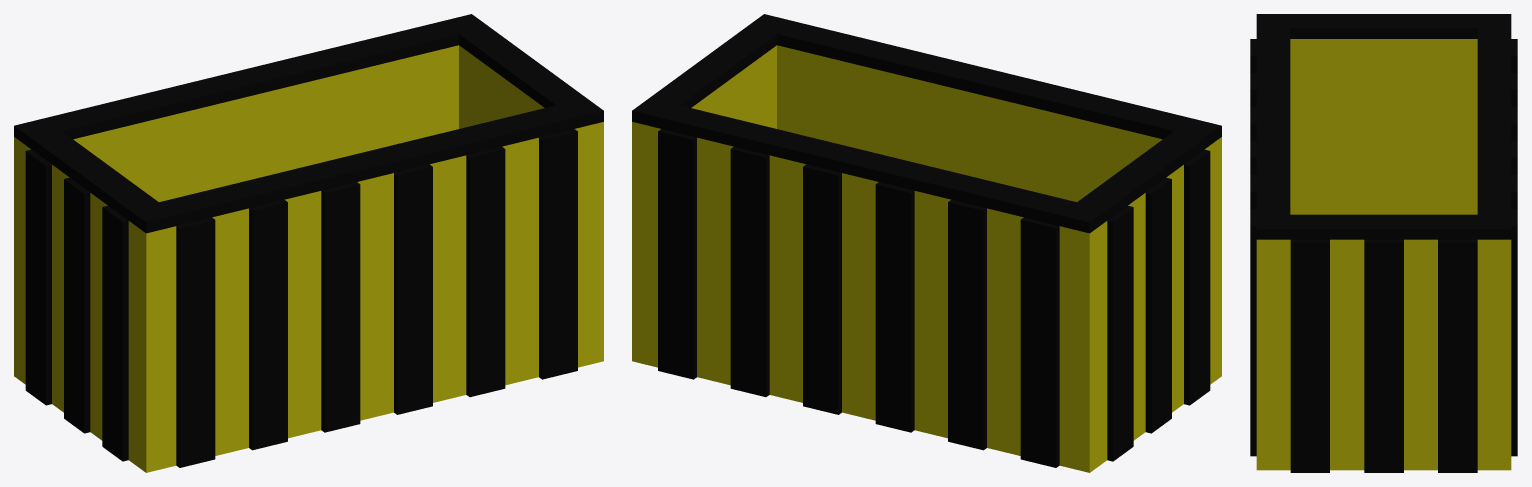
3 views of the same model, side by side, from view 1: azimuth 30°, elevation 25°; view 2: azimuth 150°, elevation 25°; view 3: azimuth 270°, elevation 25° (orthographic). The views are drawn at different scales.
Parts seen in each view (by area): view 1: YB_box; view 2: YB_box; view 3: YB_box.
Part boxes in pixels (x1=…): YB_box: x1=14, y1=14, x2=603, y2=472; YB_box: x1=632, y1=14, x2=1221, y2=472; YB_box: x1=1250, y1=14, x2=1517, y2=472.
Bounding box in the file's own units: 2.05 × 1.05 × 1.05.
